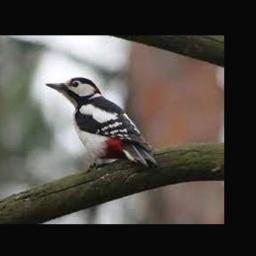Woodpecker: (44, 77, 157, 172)
